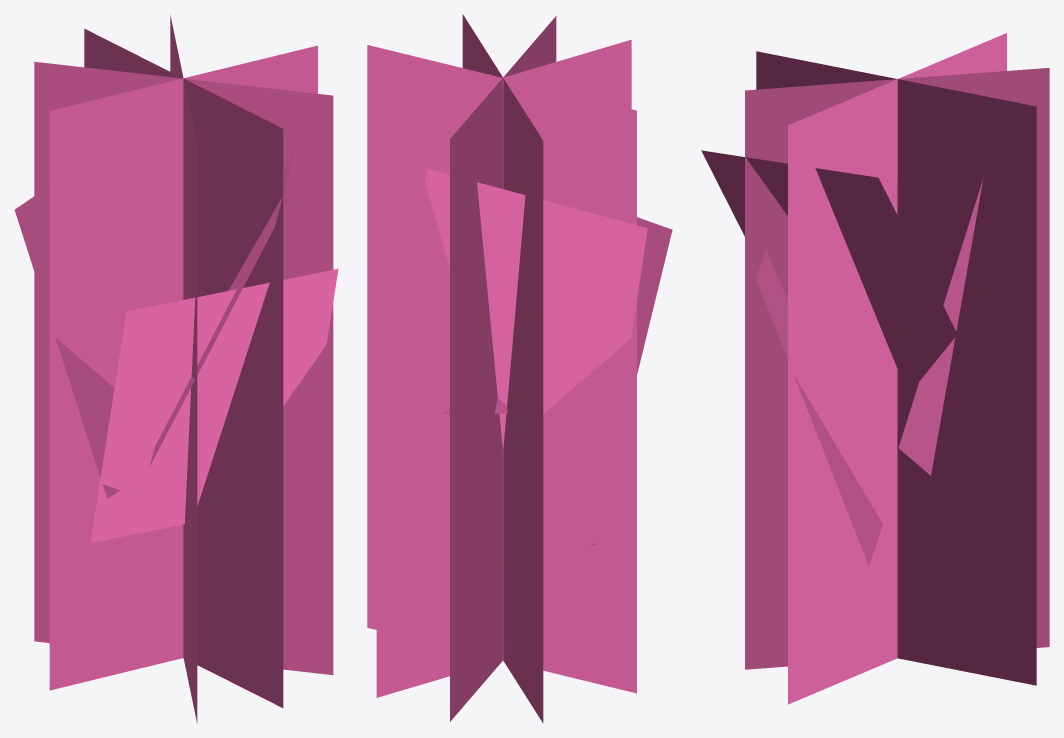
File: hotl_tree.FBX
3 renders of one model, left to right at view 1: azimuth 30°, elevation 25°; view 2: azimuth 150°, elevation 25°; view 3: azimuth 270°, elevation 25°, orthographic.
Visible parts, largest first — view 1: tree_2; view 2: tree_2; view 3: tree_2.
Boxes of the visible parts, x1,y1,x2,y2 form: tree_2: [14, 15, 338, 723]; tree_2: [367, 14, 672, 723]; tree_2: [701, 33, 1049, 704].
Size of the model in its own units: 3.68 by 7 by 3.82.
